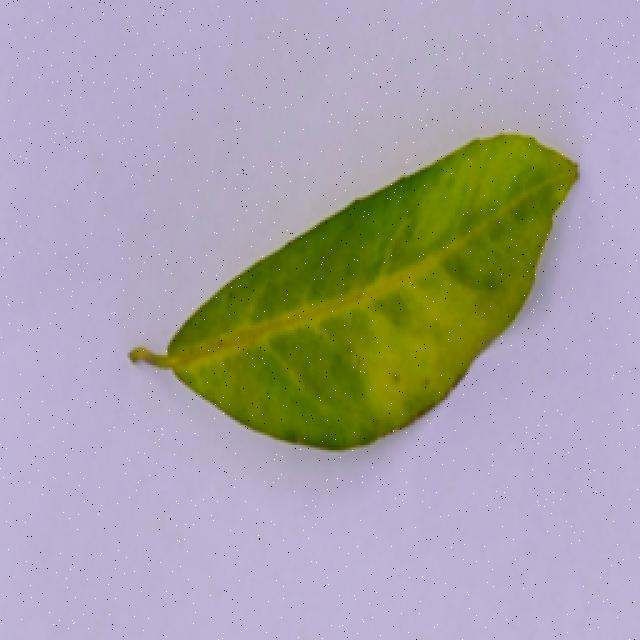greening: (105, 125, 592, 470)
